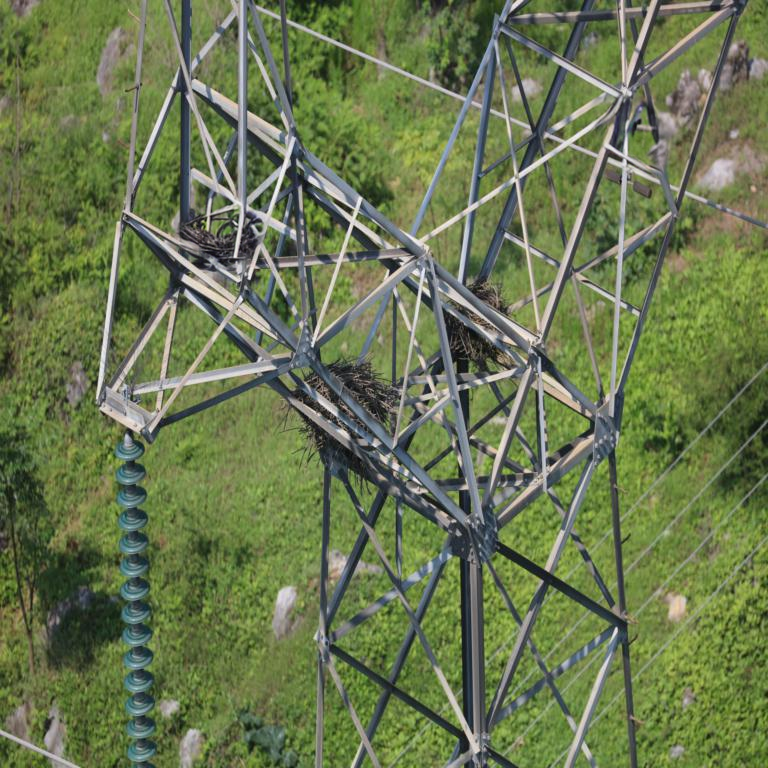nest: (303, 366, 397, 466), (442, 284, 514, 373), (186, 216, 258, 266)
